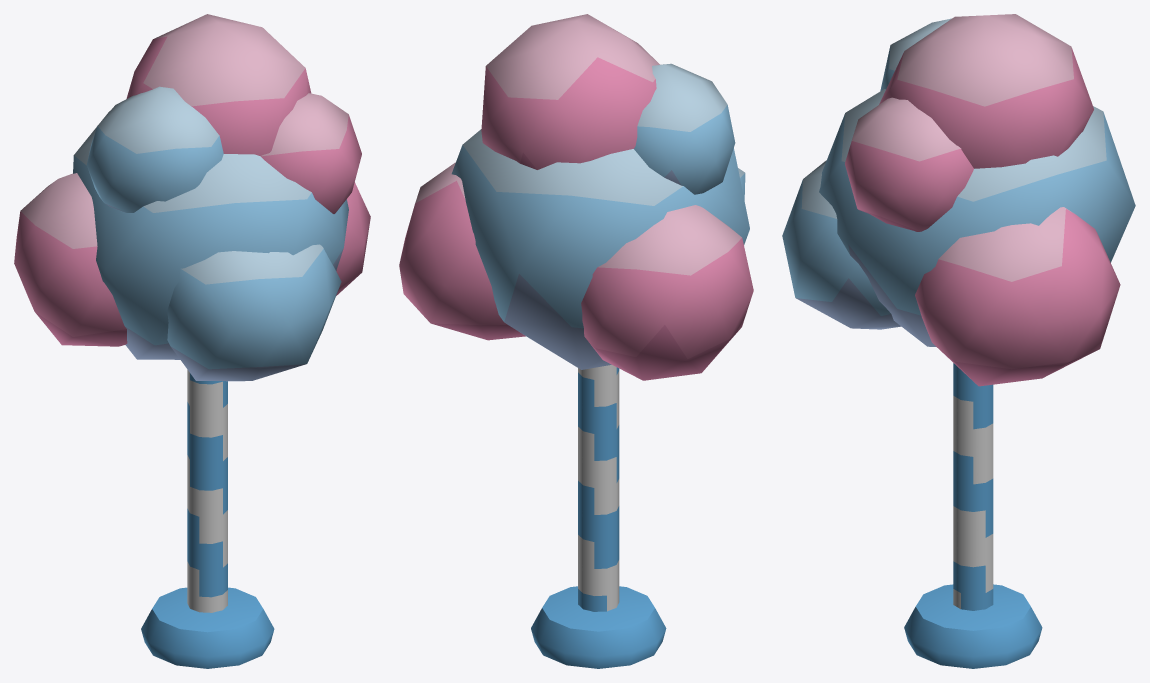
Rendered from block-deco2.glb.
3 views of the same model, side by side, from view 1: azimuth 30°, elevation 25°; view 2: azimuth 150°, elevation 25°; view 3: azimuth 270°, elevation 25° (orthographic). The views are drawn at different scales.
Visible parts, largest first — view 1: block-deco2; view 2: block-deco2; view 3: block-deco2.
Part boxes in pixels (left/top/right/bottom): block-deco2: left=14, top=14, right=370, bottom=668; block-deco2: left=399, top=14, right=753, bottom=668; block-deco2: left=782, top=14, right=1135, bottom=668.
Bounding box in the file's own units: 2.03 × 3.64 × 1.84.
